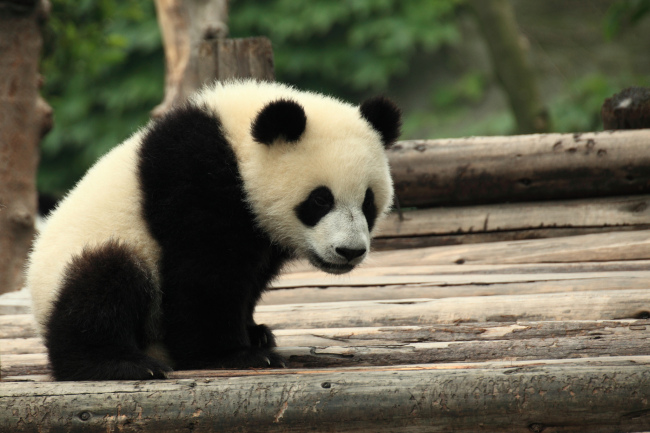panda: (26, 72, 419, 381)
